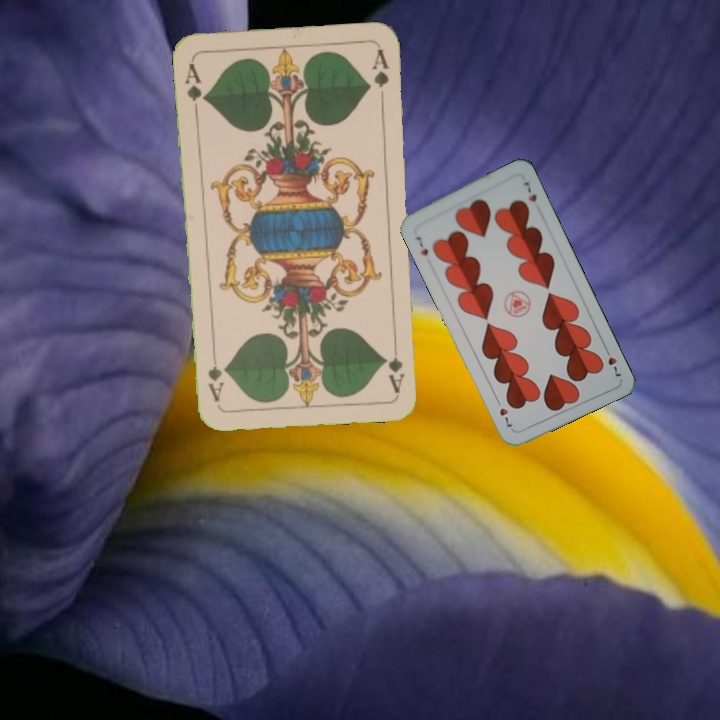GA: (180, 59, 209, 116), (384, 336, 408, 395)
H7: (600, 343, 624, 381), (412, 233, 430, 258)
